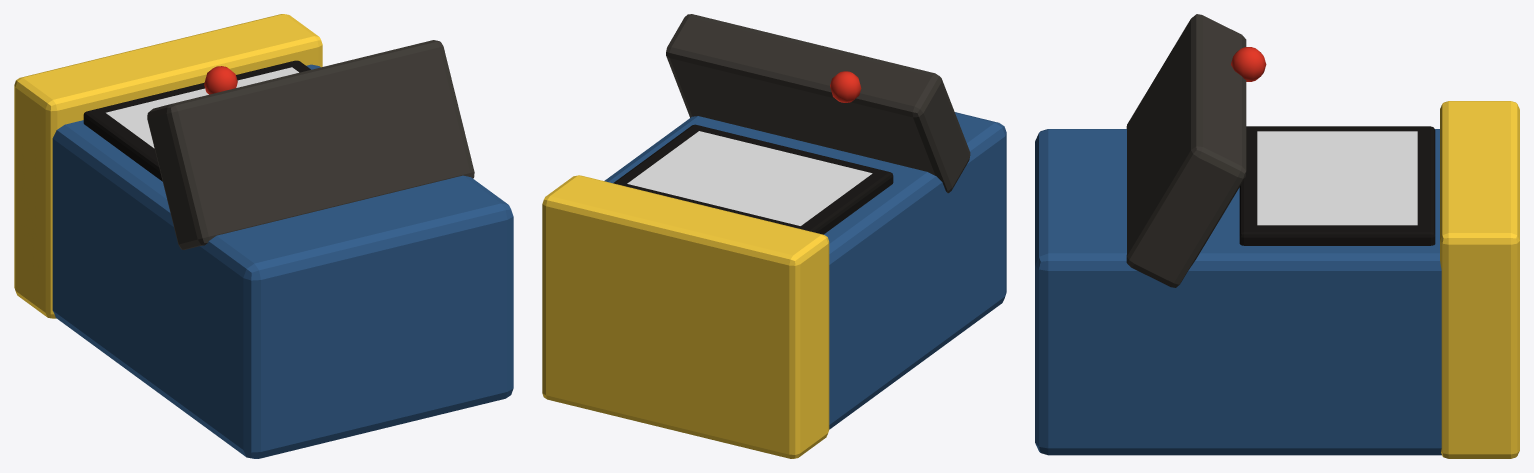
The model's file is kc_fliperama.glb.
The picture shows the model from 3 angles, left to right: view 1: azimuth 30°, elevation 25°; view 2: azimuth 150°, elevation 25°; view 3: azimuth 270°, elevation 25°; orthographic projection. The views are drawn at different scales.
Visible parts, largest first — view 1: Cube, Cube.002, Cube.001, Cube.003, screen, Sphere; view 2: Cube.001, Cube, Cube.002, screen, Cube.003, Sphere; view 3: Cube, Cube.001, Cube.002, screen, Cube.003, Sphere.
Part boxes in pixels (bbox=[...]): Cube: bbox=[52, 64, 513, 458]; Cube.002: bbox=[147, 40, 474, 249]; Cube.001: bbox=[14, 14, 322, 318]; Cube.003: bbox=[83, 60, 310, 181]; screen: bbox=[106, 67, 298, 148]; Sphere: bbox=[204, 66, 237, 94]; Cube.001: bbox=[542, 175, 829, 458]; Cube: bbox=[604, 112, 1006, 429]; Cube.002: bbox=[666, 14, 970, 193]; screen: bbox=[627, 131, 872, 225]; Cube.003: bbox=[613, 124, 893, 234]; Sphere: bbox=[830, 71, 861, 102]; Cube: bbox=[1035, 129, 1441, 455]; Cube.001: bbox=[1440, 101, 1519, 458]; Cube.002: bbox=[1126, 14, 1246, 287]; screen: bbox=[1257, 131, 1417, 225]; Cube.003: bbox=[1239, 126, 1435, 245]; Sphere: bbox=[1231, 47, 1266, 81].
Bounding box in the file's own units: 0.74 × 0.78 × 1.09.
